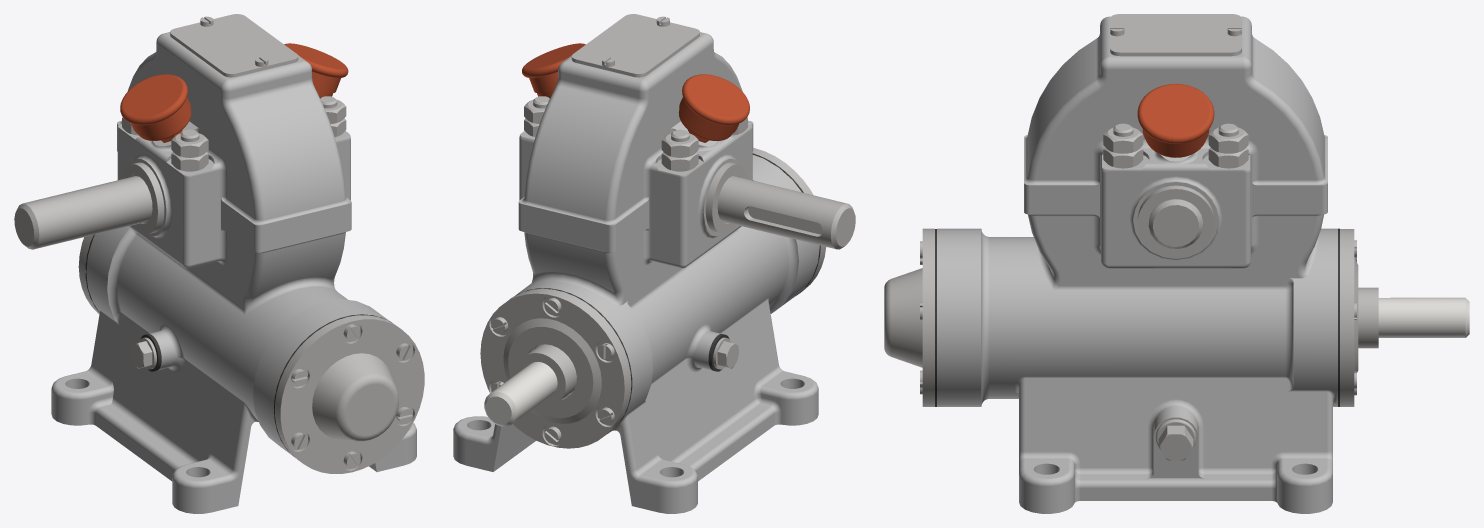
File: Gear box.fbx
The picture shows the model from 3 angles, left to right: view 1: azimuth 30°, elevation 25°; view 2: azimuth 150°, elevation 25°; view 3: azimuth 270°, elevation 25°; orthographic projection. The views are drawn at different scales.
Visible parts, largest first — view 1: Твердое тело1 (×10), Solid1 (×3); view 2: Твердое тело1 (×12), Solid1 (×3); view 3: Твердое тело1 (×11), Solid1 (×2).
Part boxes in pixels (x1=…): Твердое тело1 (×10): x1=14, y1=14, x2=424, y2=513; Solid1 (×3): x1=131, y1=133, x2=208, y2=368; Твердое тело1 (×12): x1=453, y1=14, x2=855, y2=513; Solid1 (×3): x1=661, y1=133, x2=738, y2=368; Твердое тело1 (×11): x1=884, y1=14, x2=1469, y2=513; Solid1 (×2): x1=1103, y1=127, x2=1248, y2=153.
Size of the model in its own units: 7.89 by 9.08 by 11.38.
